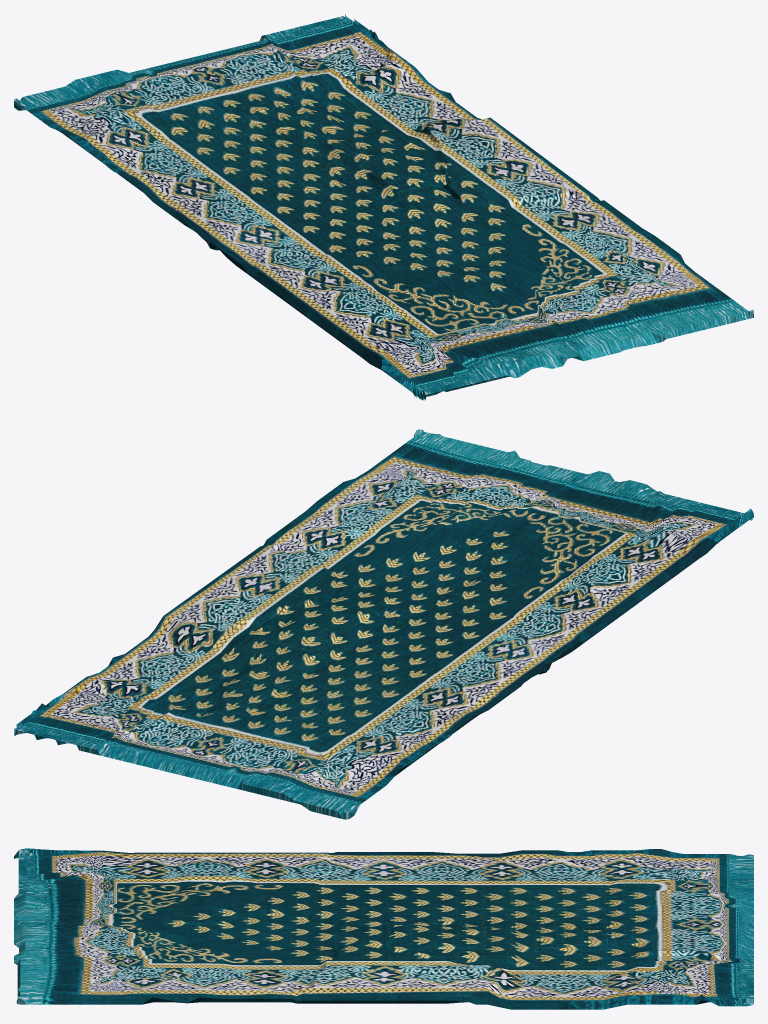
The picture shows the model from 3 angles, top to bottom: view 1: azimuth 30°, elevation 25°; view 2: azimuth 150°, elevation 25°; view 3: azimuth 270°, elevation 25°; orthographic projection. The views are drawn at different scales.
Parts seen in each view (by area): view 1: Plane.001; view 2: Plane.001; view 3: Plane.001.
Boxes of the visible parts, x1,y1,x2,y2 form: Plane.001: (14, 14, 753, 400); Plane.001: (14, 429, 753, 819); Plane.001: (14, 848, 753, 1009).
Bounding box in the file's own units: 5.46 × 0.3053 × 11.5.
Materials: 1 (1 with a texture image).
